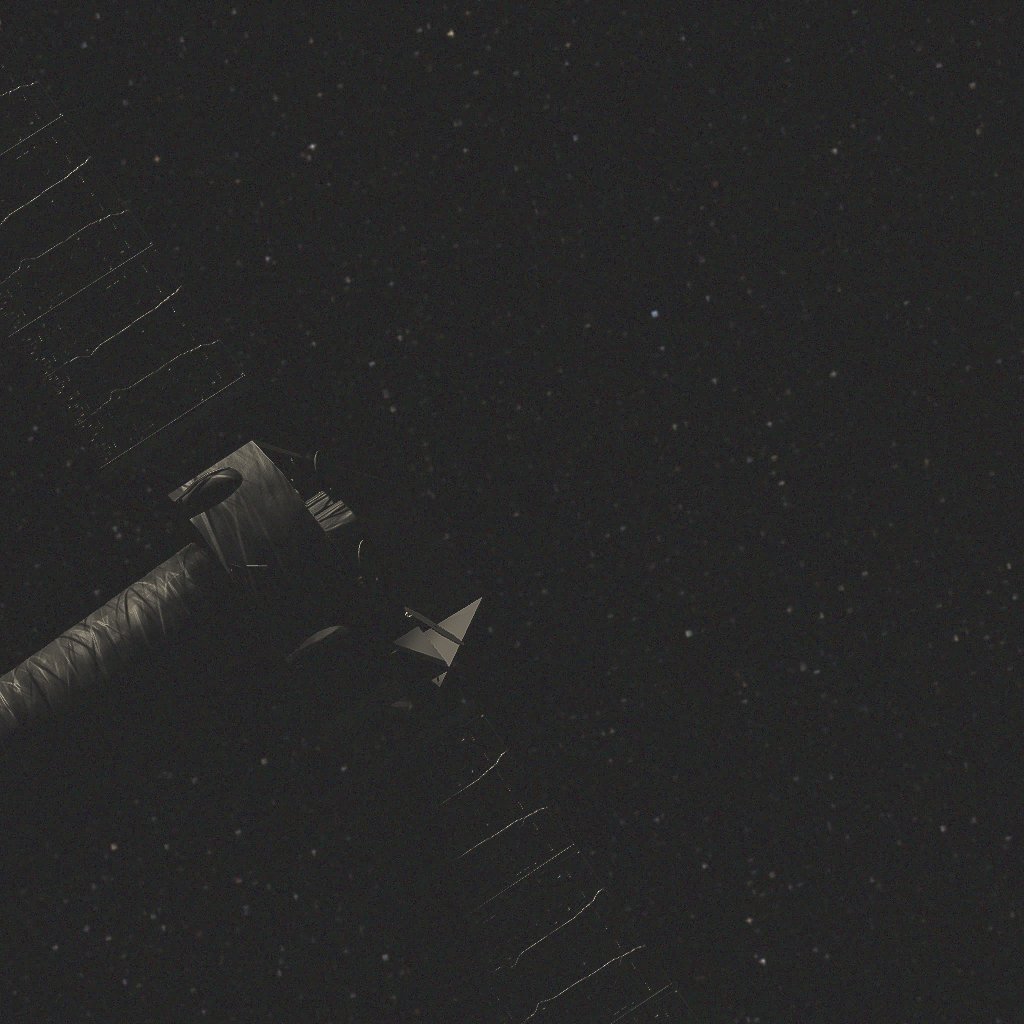xmm_newton: (0, 27, 700, 1024)
